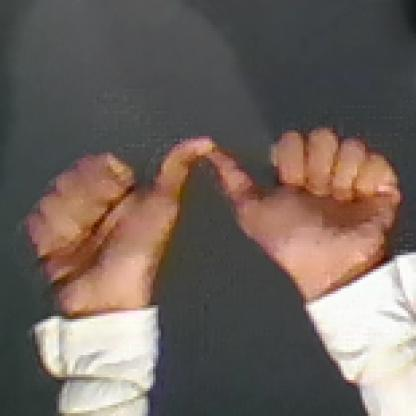A: (13, 121, 403, 296)
